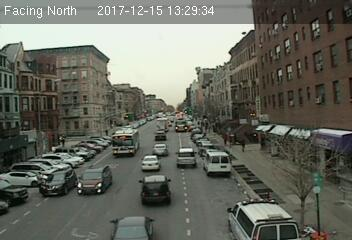bus: (111, 127, 142, 157)
car: (107, 215, 154, 240), (137, 174, 172, 205), (76, 167, 113, 195), (39, 170, 78, 196), (175, 148, 198, 168), (141, 155, 161, 171), (152, 143, 168, 154)
police: (226, 197, 305, 239)
truck: (201, 152, 231, 176), (156, 118, 167, 130)
